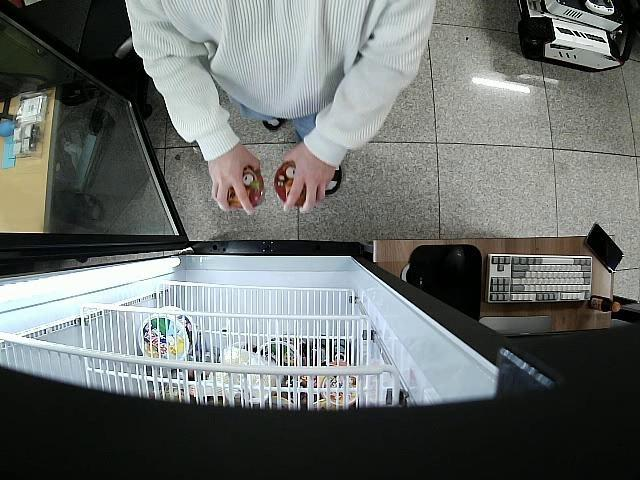06_nuguri_S: (223, 165, 264, 209), (275, 163, 315, 206)
